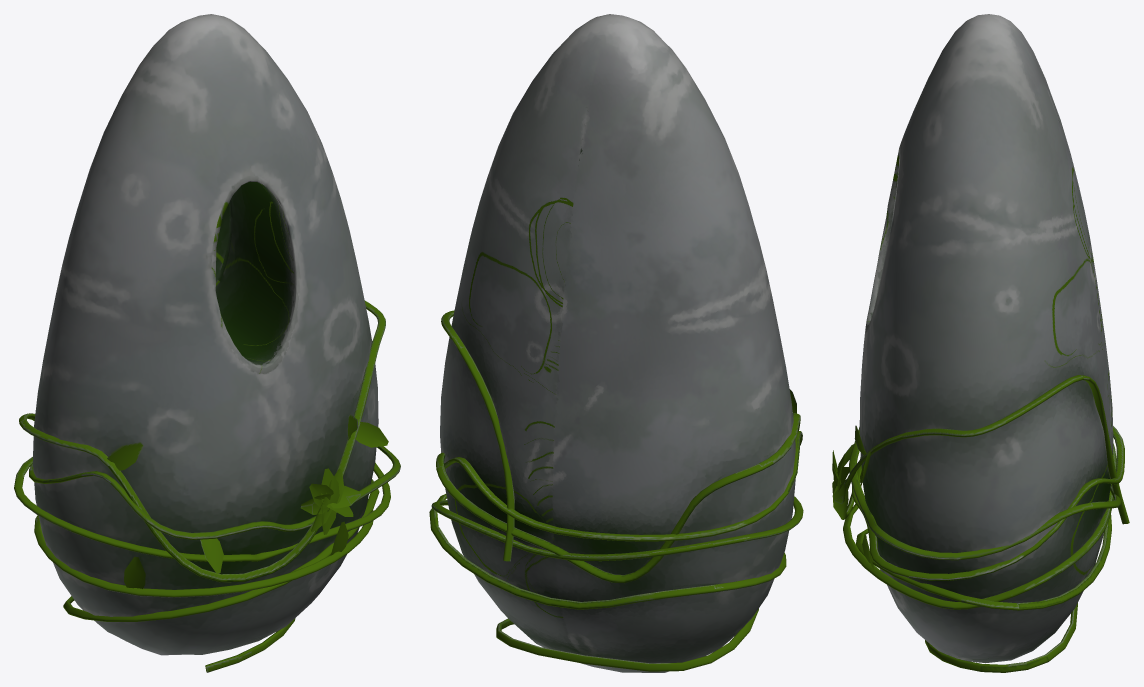
File: stoneteardropfinal.fbx
3 views of the same model, side by side, from view 1: azimuth 30°, elevation 25°; view 2: azimuth 150°, elevation 25°; view 3: azimuth 270°, elevation 25° (orthographic). The views are drawn at different scales.
Visible parts, largest first — view 1: StoneTearLow002.005, StoneTearLow002.004, StoneTearLow002.006; view 2: StoneTearLow002.005, StoneTearLow002.004; view 3: StoneTearLow002.005, StoneTearLow002.004, StoneTearLow002.006.
Part boxes in pixels (bbox=[...]): StoneTearLow002.005: bbox=[32, 14, 378, 655]; StoneTearLow002.004: bbox=[14, 300, 400, 672]; StoneTearLow002.006: bbox=[107, 414, 388, 573]; StoneTearLow002.005: bbox=[440, 14, 795, 672]; StoneTearLow002.004: bbox=[429, 310, 803, 671]; StoneTearLow002.005: bbox=[859, 14, 1113, 663]; StoneTearLow002.004: bbox=[840, 375, 1129, 672]; StoneTearLow002.006: bbox=[832, 425, 873, 569].
Size of the model in its own units: 191 by 332 by 143.
